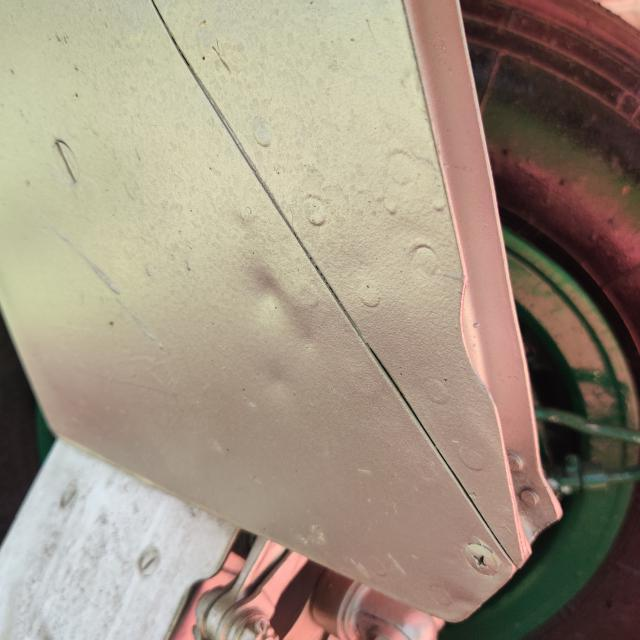Dent: (231, 222, 335, 355)
